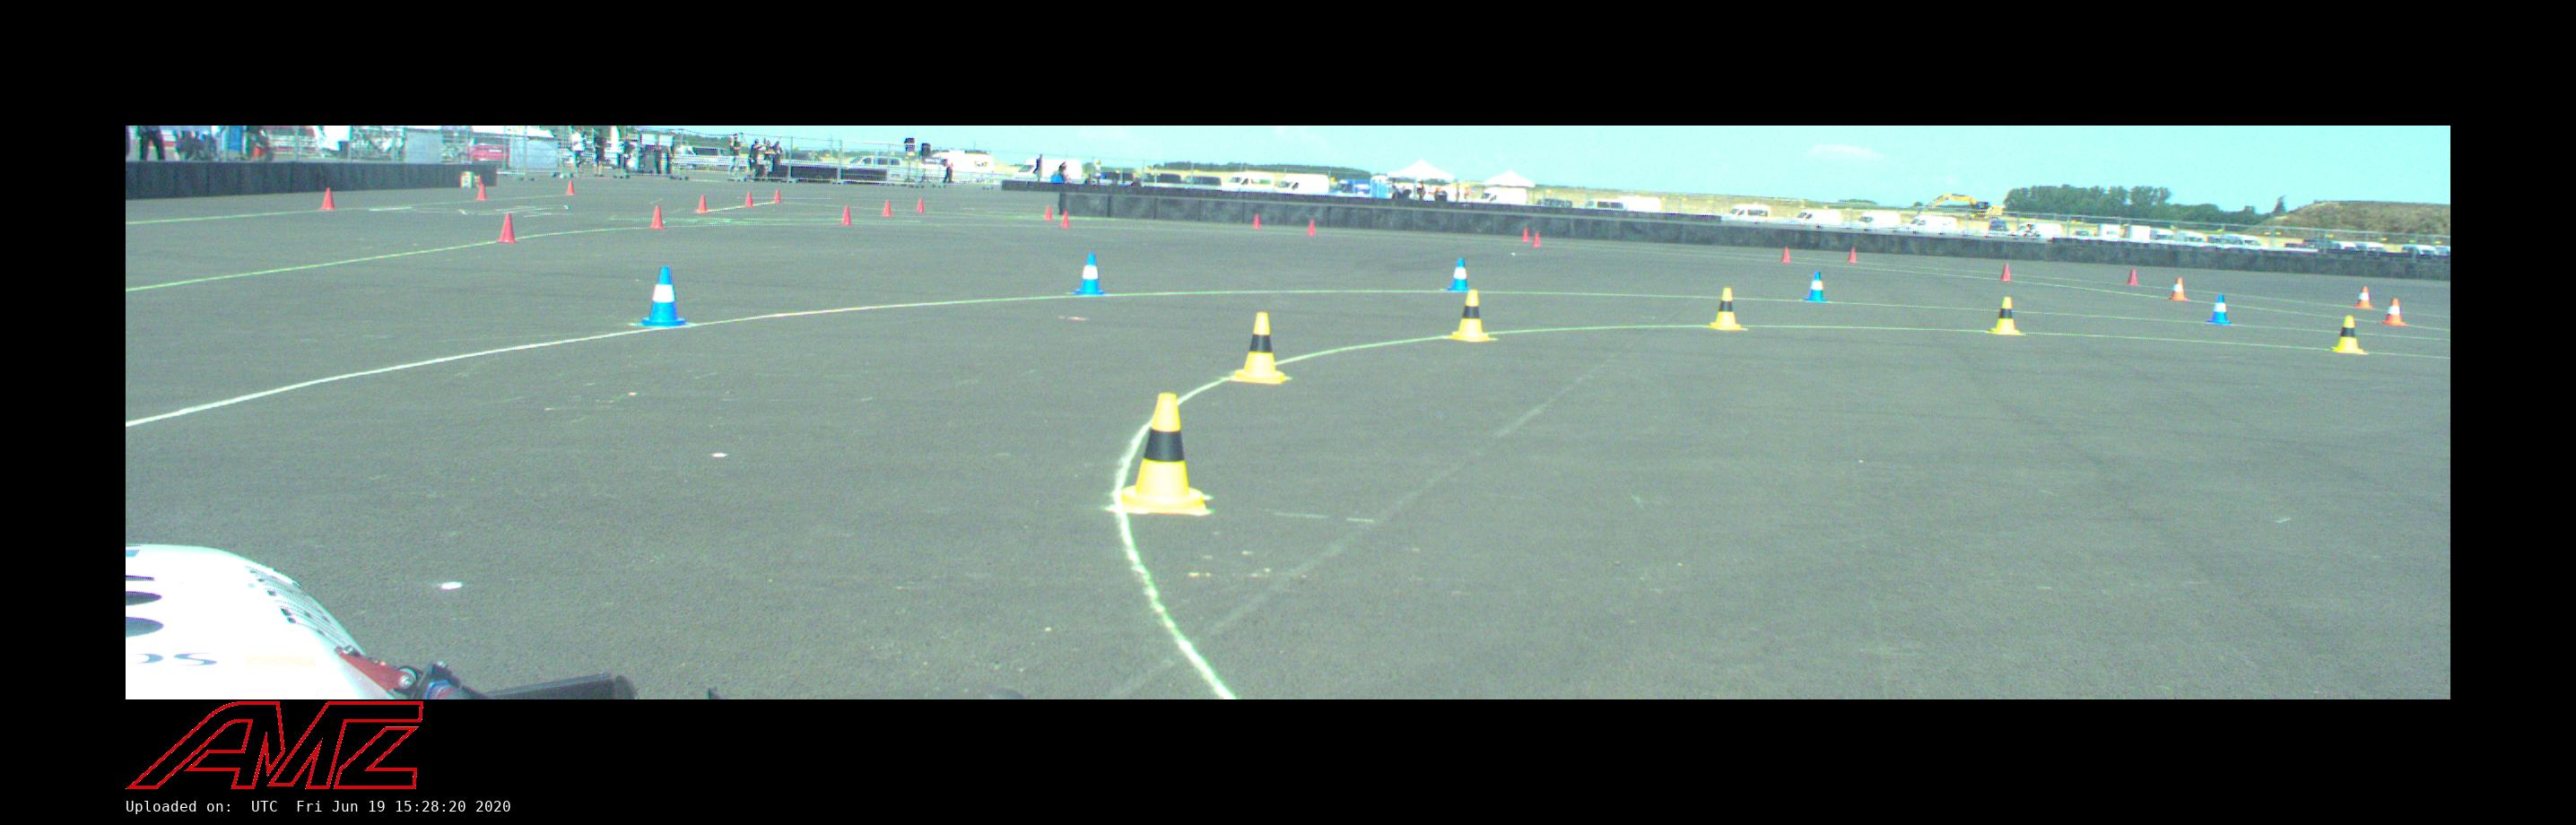blue_cone: (639, 267, 690, 327), (1075, 255, 1105, 294), (1447, 257, 1470, 291), (2207, 294, 2231, 325), (1804, 272, 1827, 300)
orange_cone: (2380, 299, 2408, 326), (2353, 286, 2373, 308), (2169, 278, 2189, 301)
unknown_cone: (495, 213, 519, 243), (648, 204, 667, 229), (1996, 260, 2017, 282), (320, 187, 337, 210), (1780, 244, 1793, 264), (1843, 245, 1858, 262), (2126, 267, 2137, 287), (1059, 211, 1073, 228), (881, 199, 894, 216), (475, 183, 488, 201), (696, 195, 708, 213), (1306, 219, 1317, 238), (841, 205, 852, 224), (1042, 205, 1054, 221), (1250, 213, 1261, 227), (565, 180, 576, 195), (1530, 231, 1541, 245), (745, 191, 753, 208), (1520, 226, 1529, 241), (773, 187, 782, 203), (916, 198, 925, 213)
yellow_cone: (1116, 394, 1208, 515), (1227, 312, 1288, 382), (1448, 290, 1492, 341), (1707, 289, 1743, 329), (2331, 316, 2364, 352), (1989, 297, 2021, 334)
